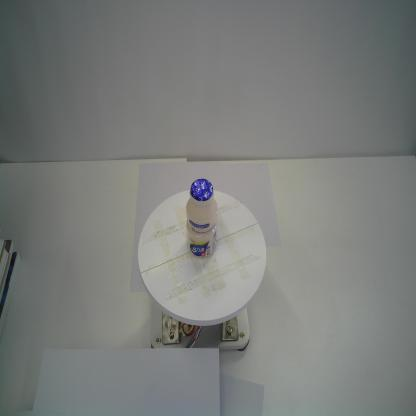Milk: (185, 178, 219, 258)
